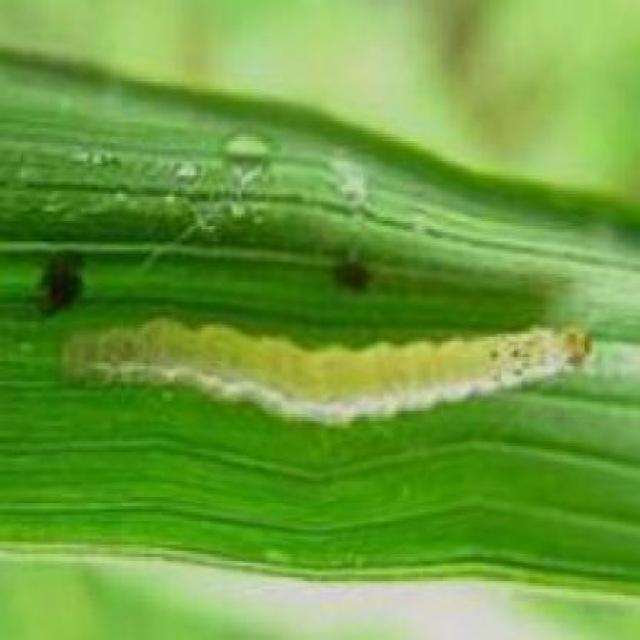leaf-folder: (52, 242, 605, 458)
